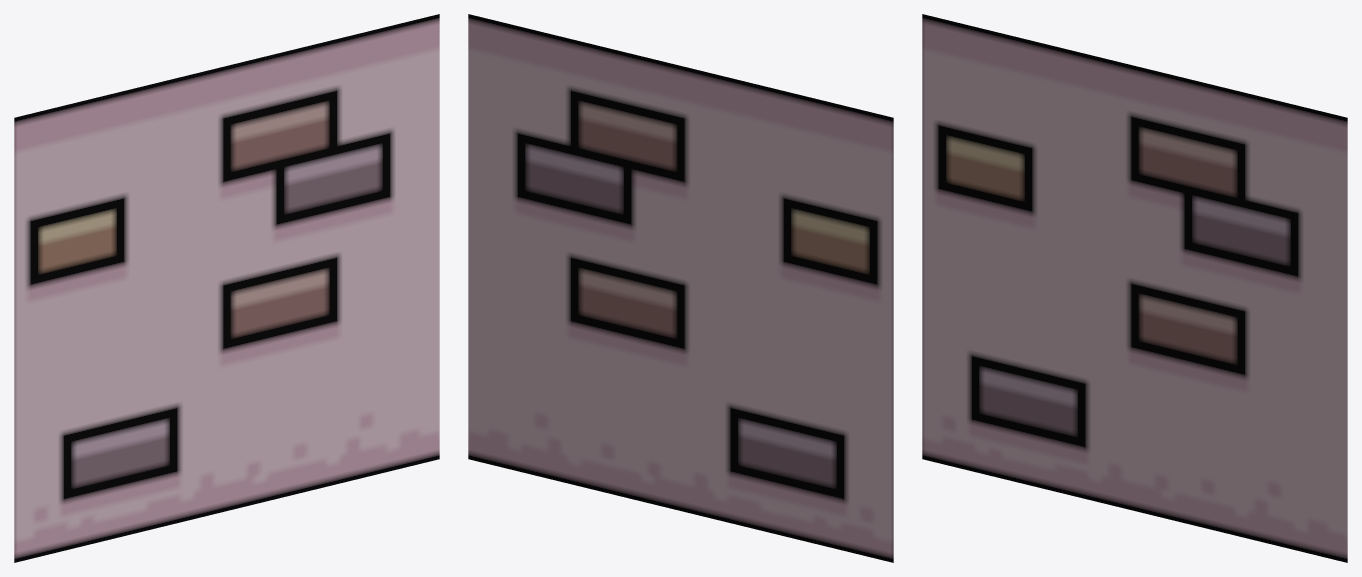
Rendered from wall.glb.
3 views of the same model, side by side, from view 1: azimuth 30°, elevation 25°; view 2: azimuth 150°, elevation 25°; view 3: azimuth 330°, elevation 25° (orthographic).
Parts seen in each view (by area): view 1: arch_wall_brick; view 2: arch_wall_brick; view 3: arch_wall_brick.
Boxes of the visible parts, x1,y1,x2,y2 form: arch_wall_brick: [14, 14, 439, 562]; arch_wall_brick: [468, 14, 893, 562]; arch_wall_brick: [922, 14, 1347, 562].
Bounding box in the file's own units: 4 × 4 × 6.52e-07.
1 material, 1 textured.
